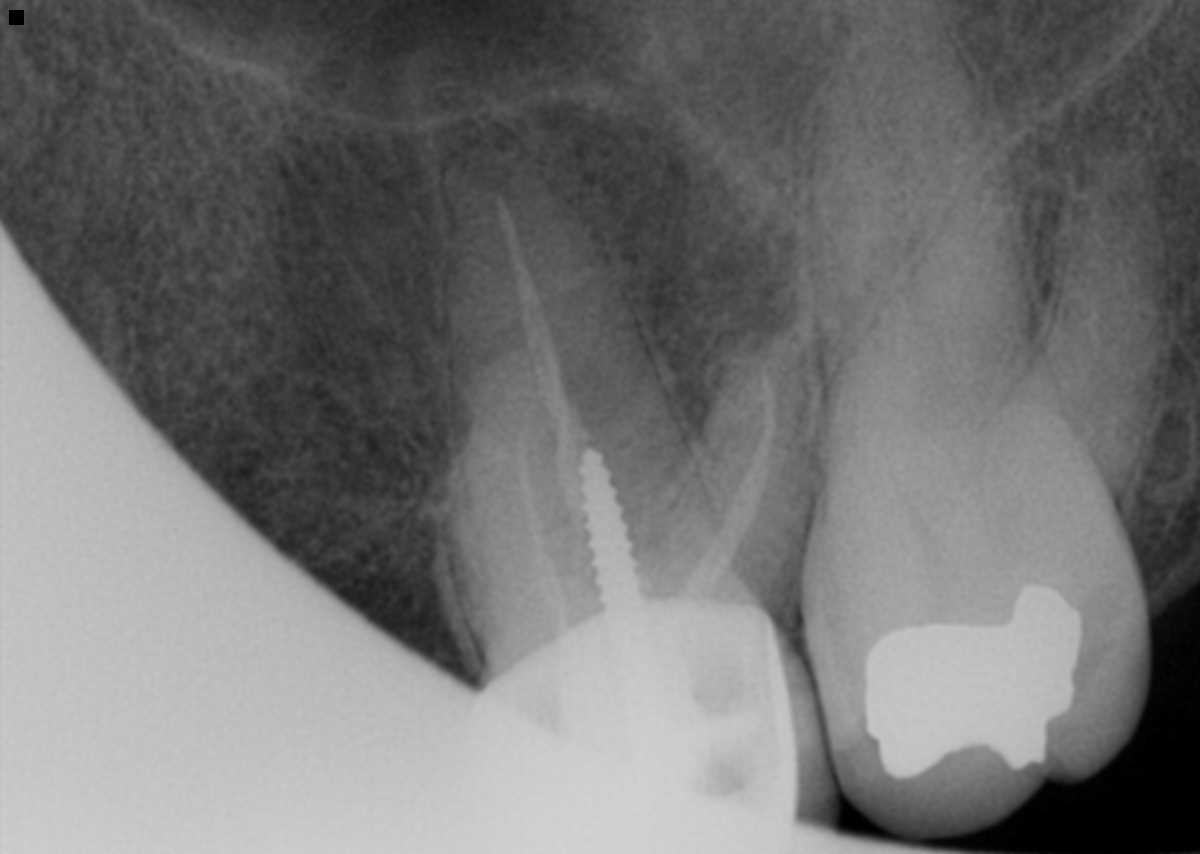Distal Root: (991, 123, 1174, 498), (649, 341, 806, 599)
Mesial Root: (820, 133, 1062, 499), (441, 382, 582, 676)
Palatal Root: (445, 115, 763, 672), (806, 22, 1083, 518)
Root Canal Filling: (495, 193, 593, 522), (676, 371, 778, 597), (518, 397, 579, 631)
